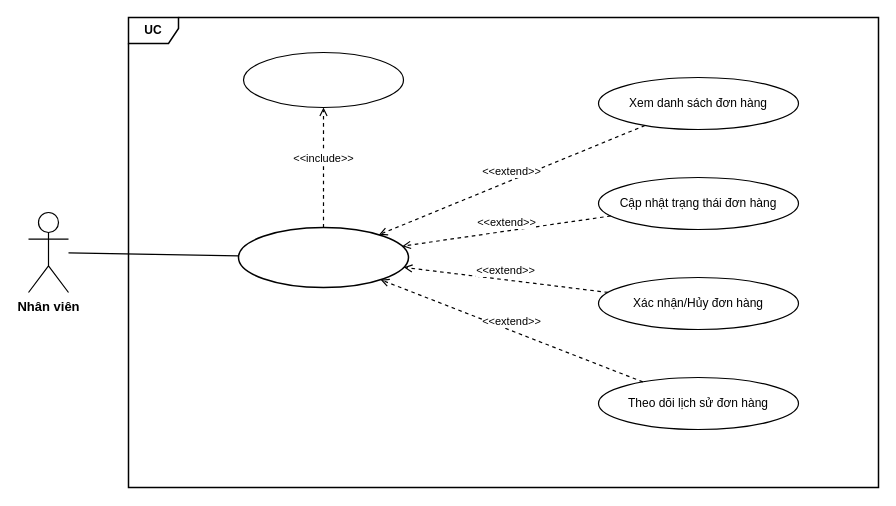
The diagram is 896 pixels wide and 506 high, and some of its shapes have lost their labels. Each missing label, with the box of its shape:
Quản lý đơn hàng: (237, 226, 409, 288)
Đăng nhập: (242, 51, 404, 108)
